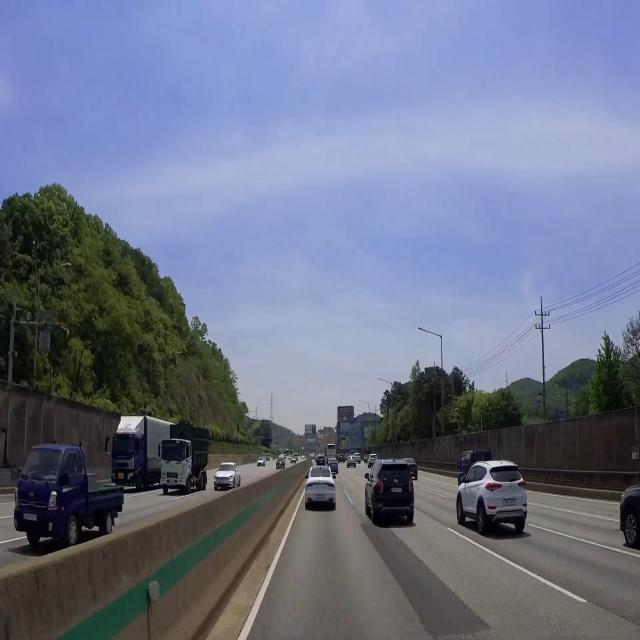car: (20, 510, 41, 526), (501, 494, 519, 509), (390, 485, 406, 499), (164, 477, 177, 492), (313, 493, 328, 505), (116, 472, 126, 481)
